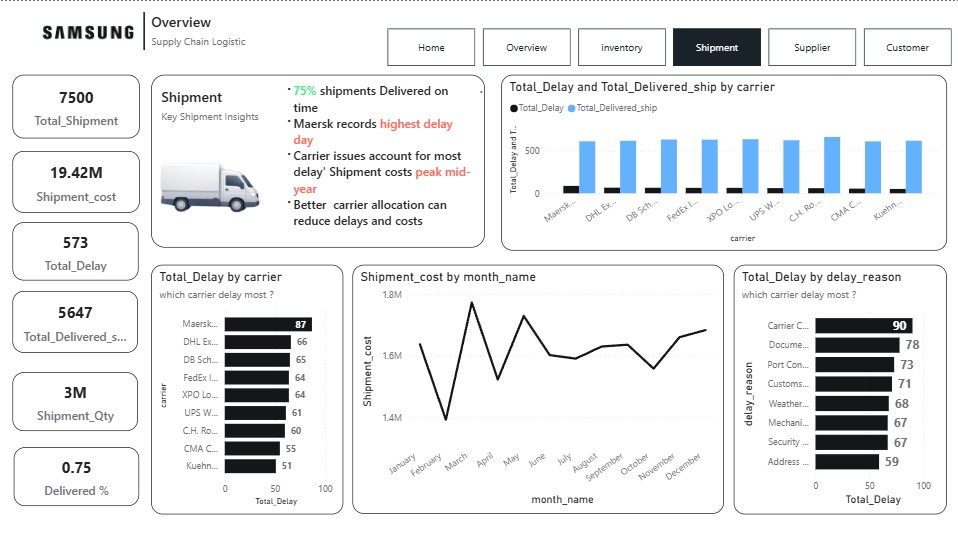

The dashboard page shown, as its layout file describes it:
{"tool":"powerbi","page":{"name":"Shipment","canvas":[1280,720],"ordinal":3},"visuals":[{"type":"shape","box":[201.7,98.8,444.6,230.5],"z":0},{"type":"actionButton","box":[637,103.3,10.2,35.7],"z":1000},{"type":"shape","title":"Overview","box":[201.7,15.3,235.1,71],"z":2000},{"type":"shape","box":[16.9,15.7,351.1,50.7],"z":3000},{"type":"card","fields":{"Values":["MeasuresTable.Total_Delay"]},"box":[16.7,295,168.3,77.9],"z":4000},{"type":"card","fields":{"Values":["Cost_QTS_Suppliers.Total_Delivered_ship"]},"box":[16.7,386.8,167,82.1],"z":5000},{"type":"card","fields":{"Values":["MeasuresTable.Total_Shipment_Quantity"]},"box":[17.1,495.2,167.5,78.3],"z":6000},{"type":"card","fields":{"Values":["Cost_QTS_Suppliers.Shipment_cost"]},"box":[16.7,200.3,169.7,82.1],"z":7000},{"type":"card","fields":{"Values":["MeasuresTable.Total_Shipment"]},"box":[16.7,98.8,169.7,84.9],"z":8000},{"type":"barChart","fields":{"Y":["MeasuresTable.Total_Delay"],"Category":["fact_shipment.carrier"]},"box":[201.2,351.2,256.2,332.5],"z":9000},{"type":"card","fields":{"Values":["Cost_QTS_Suppliers.Delivered %"]},"box":[18.3,594.3,167.5,78.3],"z":10000},{"type":"image","box":[0,16.2,235,50],"z":11000},{"type":"pageNavigator","box":[517.3,36.7,753.3,50.1],"z":12000},{"type":"image","box":[201.7,188,152.3,108.4],"z":13000},{"type":"shape","title":"Shipment","box":[215,115,153.8,53.8],"z":14000},{"type":"clusteredColumnChart","fields":{"Category":["fact_shipment.carrier"],"Y":["MeasuresTable.Total_Delay","Cost_QTS_Suppliers.Total_Delivered_ship"]},"box":[668.3,98.8,594.2,234.6],"z":15000},{"type":"lineChart","fields":{"Y":["Cost_QTS_Suppliers.Shipment_cost"],"Category":["dim_date.month_name"]},"box":[470.7,351.3,495.4,332.1],"z":16000},{"type":"barChart","fields":{"Y":["MeasuresTable.Total_Delay"],"Category":["fact_shipment.delay_reason"]},"box":[978.8,351.2,283.8,332.5],"z":17000},{"type":"textbox","box":[367.8,102.9,269,215.4],"z":18000}]}

Visuals, with their boxes in screenshot pixels (x1, y1, x2, y2), scaled from the page's 1280x720 canvas onto the 958x539 screenshot:
shape: [151, 74, 484, 247]
actionButton: [477, 77, 484, 104]
"Overview" shape: [151, 11, 327, 65]
shape: [13, 12, 275, 50]
card - MeasuresTable.Total_Delay: [12, 221, 138, 279]
card - Cost_QTS_Suppliers.Total_Delivered_ship: [12, 290, 137, 351]
card - MeasuresTable.Total_Shipment_Quantity: [13, 371, 138, 429]
card - Cost_QTS_Suppliers.Shipment_cost: [12, 150, 140, 211]
card - MeasuresTable.Total_Shipment: [12, 74, 140, 138]
barChart - MeasuresTable.Total_Delay x fact_shipment.carrier: [151, 263, 342, 512]
card - Cost_QTS_Suppliers.Delivered %: [14, 445, 139, 504]
image: [0, 12, 176, 50]
pageNavigator: [387, 27, 951, 65]
image: [151, 141, 265, 222]
"Shipment" shape: [161, 86, 276, 126]
clusteredColumnChart - fact_shipment.carrier x MeasuresTable.Total_Delay: [500, 74, 945, 250]
lineChart - Cost_QTS_Suppliers.Shipment_cost x dim_date.month_name: [352, 263, 723, 512]
barChart - MeasuresTable.Total_Delay x fact_shipment.delay_reason: [733, 263, 945, 512]
textbox: [275, 77, 477, 238]
